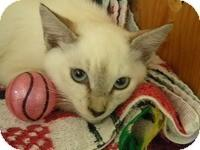siamese: (36, 1, 174, 134)
